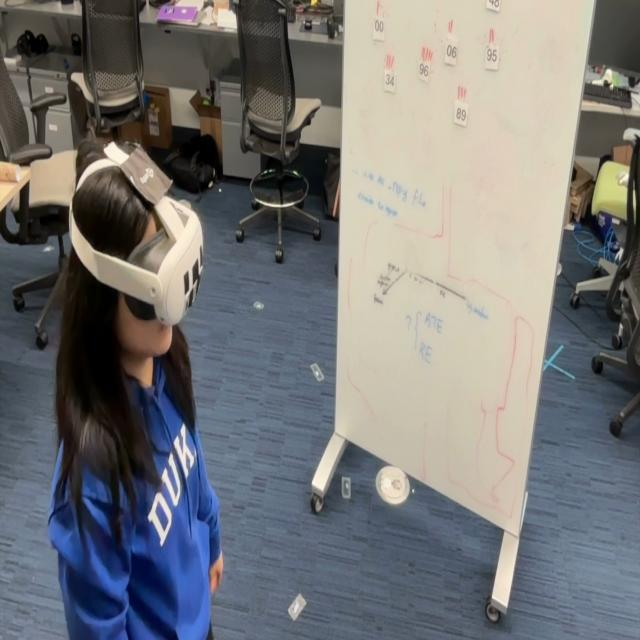Headset: (68, 147, 204, 328)
UnityLogo: (122, 144, 172, 213)
